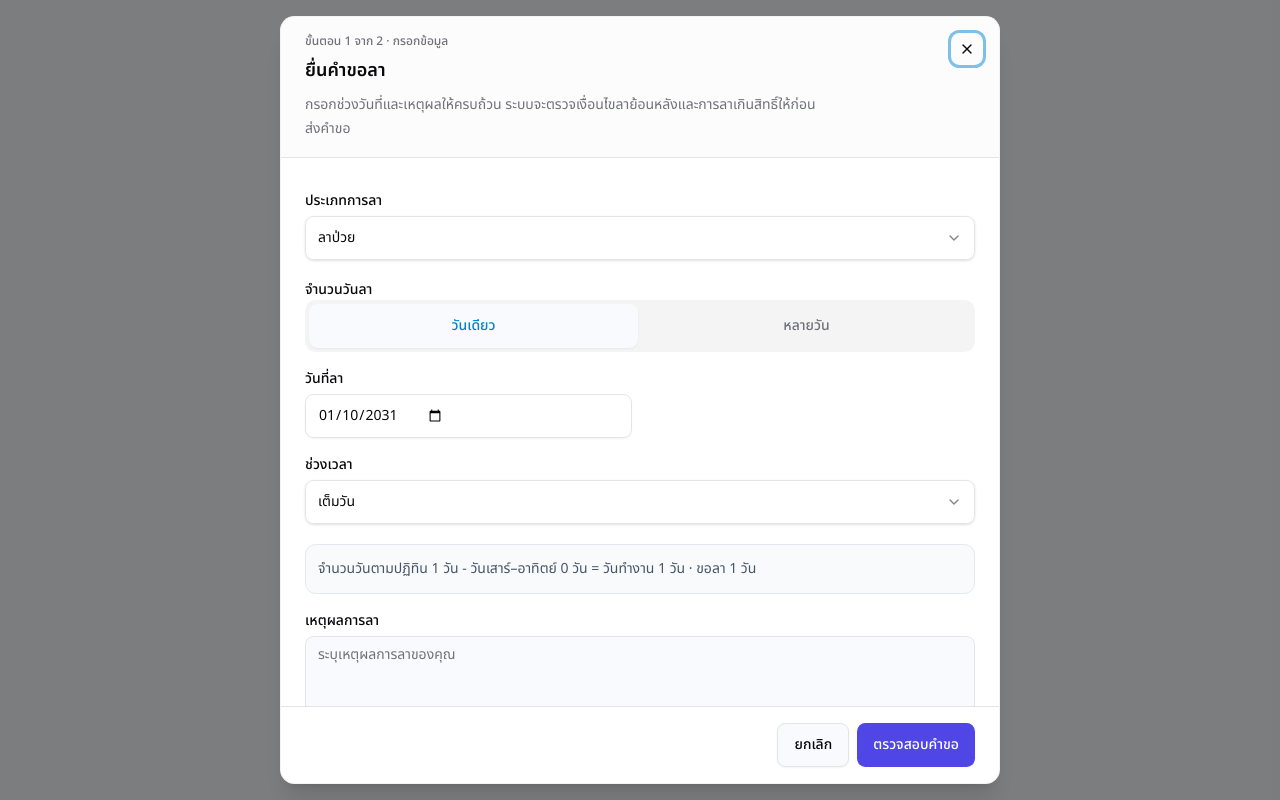
LeaveRequestForm › uses clear backdated leave copy when the leave date is in the past
In the date field labelled "วันที่ลา": (468, 416) [305,394,632,438], type "2031-01-08"
(page scrolled)
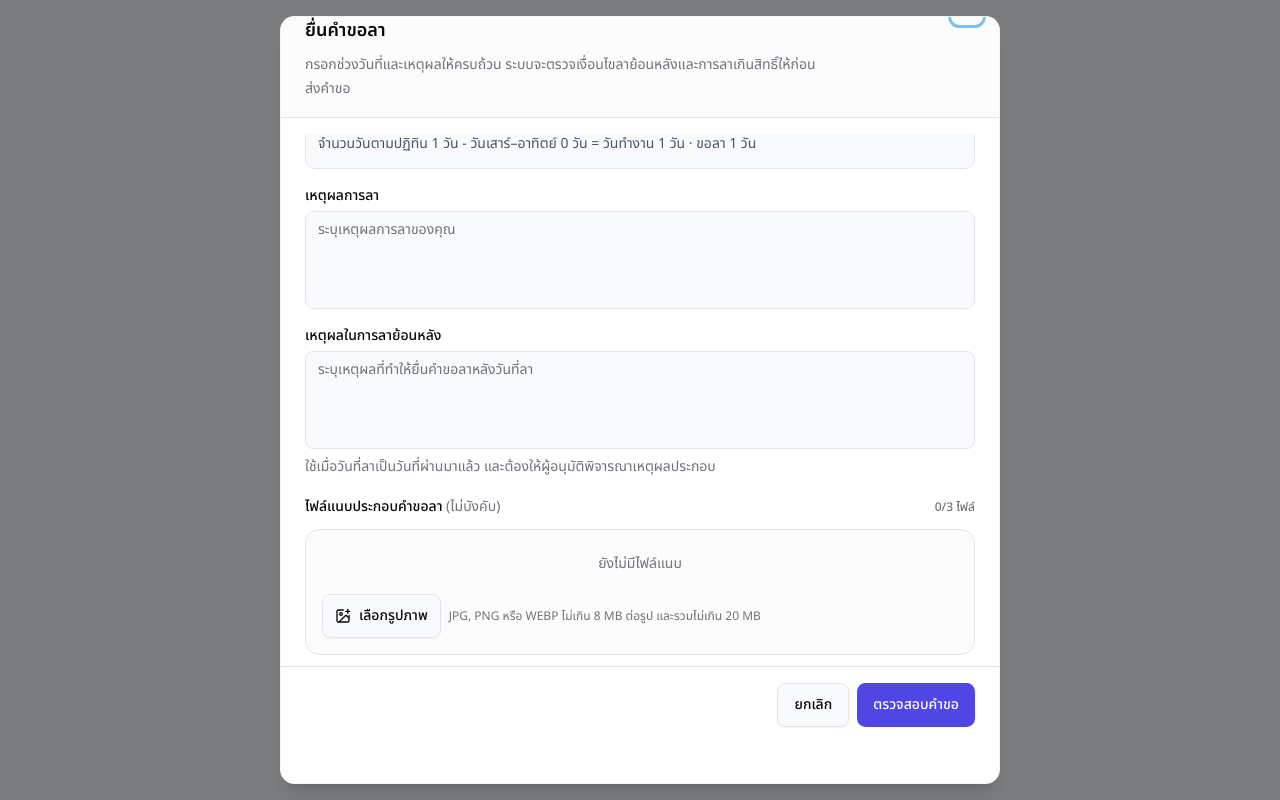
Expected: the text box with placeholder "ระบุเหตุผลที่ทำให้ยื่นคำขอลาหลังวันที่ลา" is shown, [305,351,975,449]
